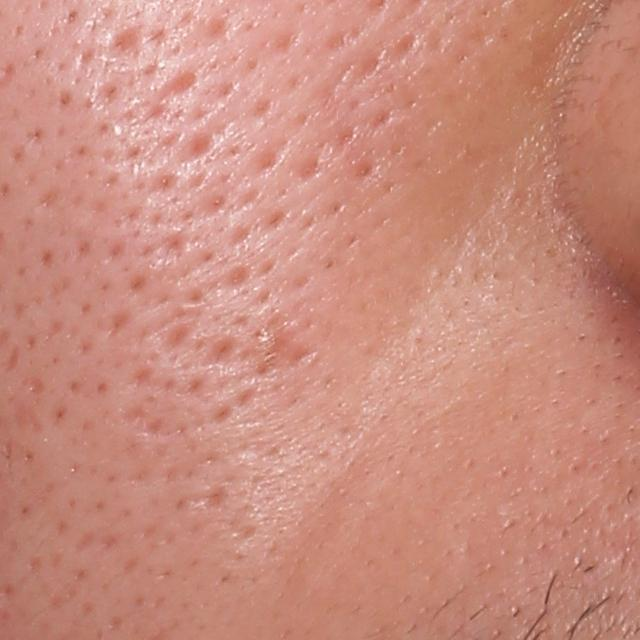atrophic_scar: (142, 69, 208, 111), (101, 23, 148, 71), (173, 481, 226, 521), (203, 332, 238, 371)
